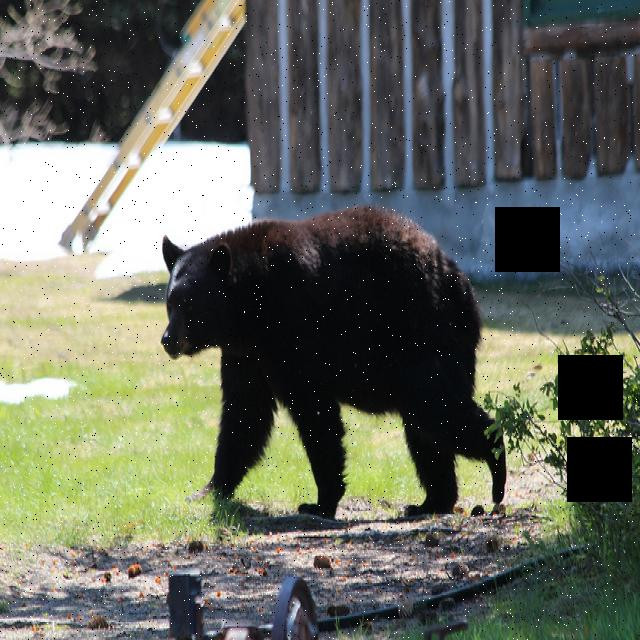Bear: (156, 196, 506, 522)
